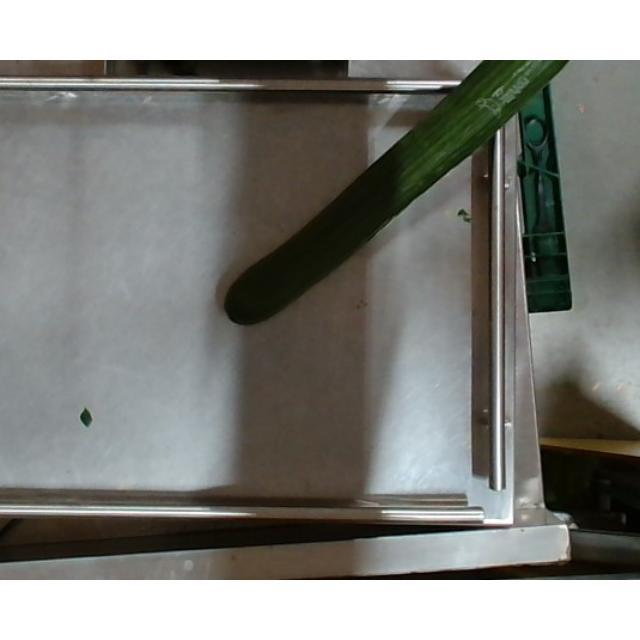cucumber: (224, 60, 570, 326)
